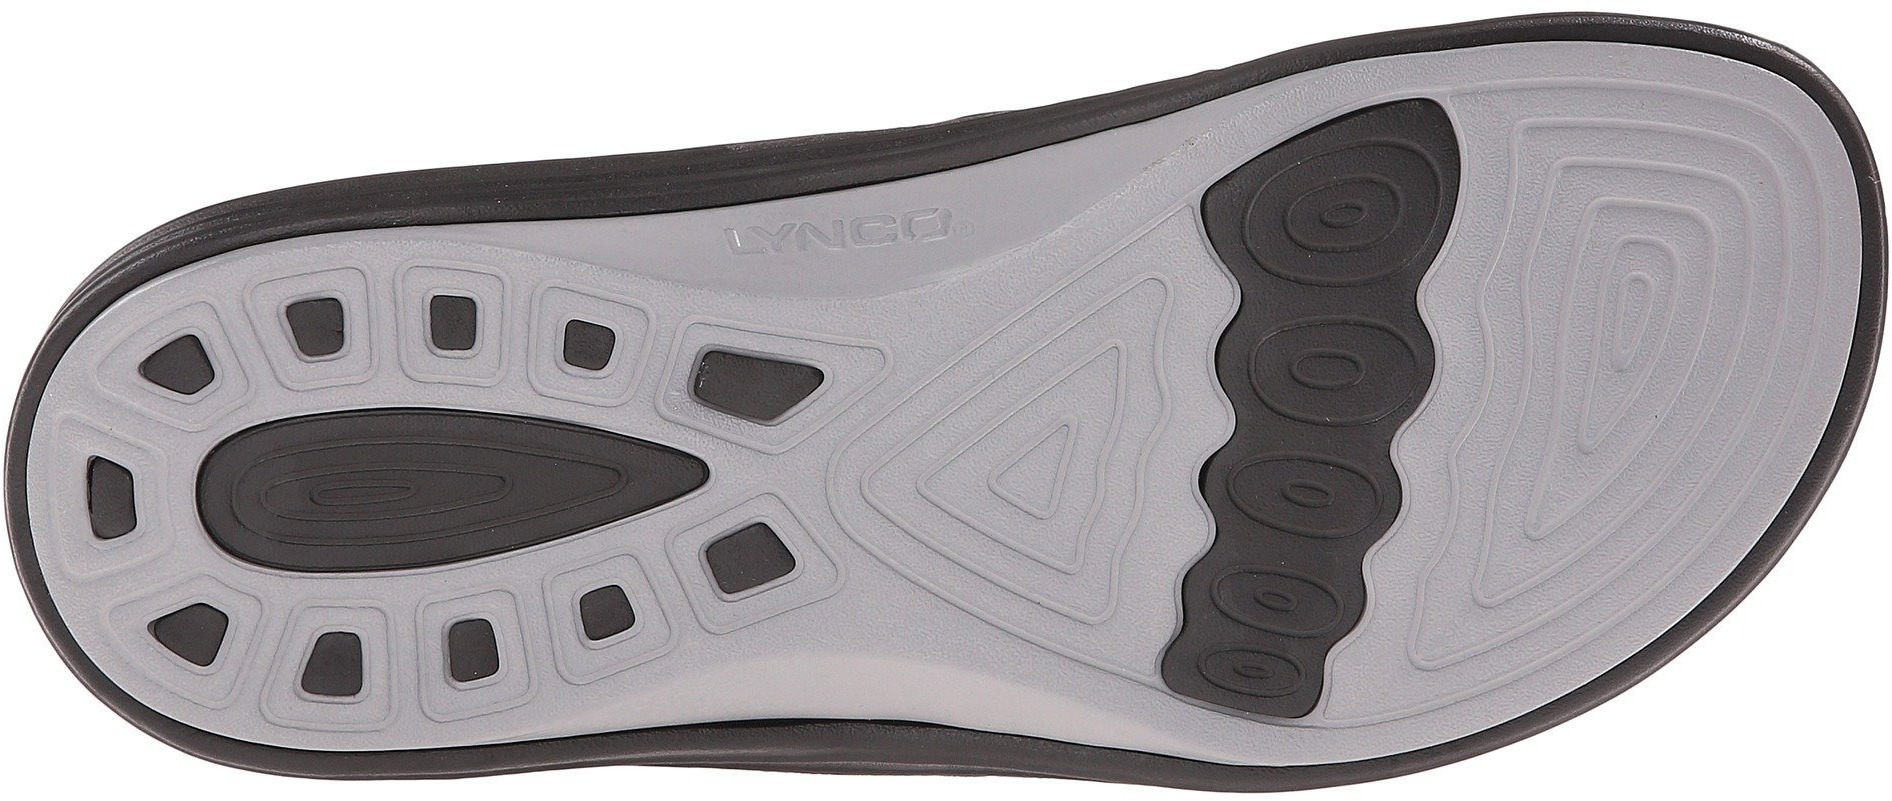circle: (1201, 358, 1392, 568), (1221, 146, 1435, 331), (1190, 571, 1332, 703)
quad: (217, 245, 426, 423), (386, 565, 561, 746)
text: (776, 203, 884, 300)
triangle: (814, 197, 1189, 690)
